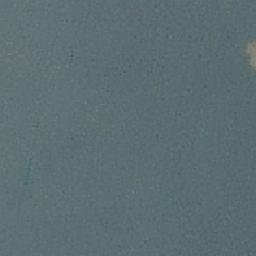debris: (244, 41, 256, 64)
